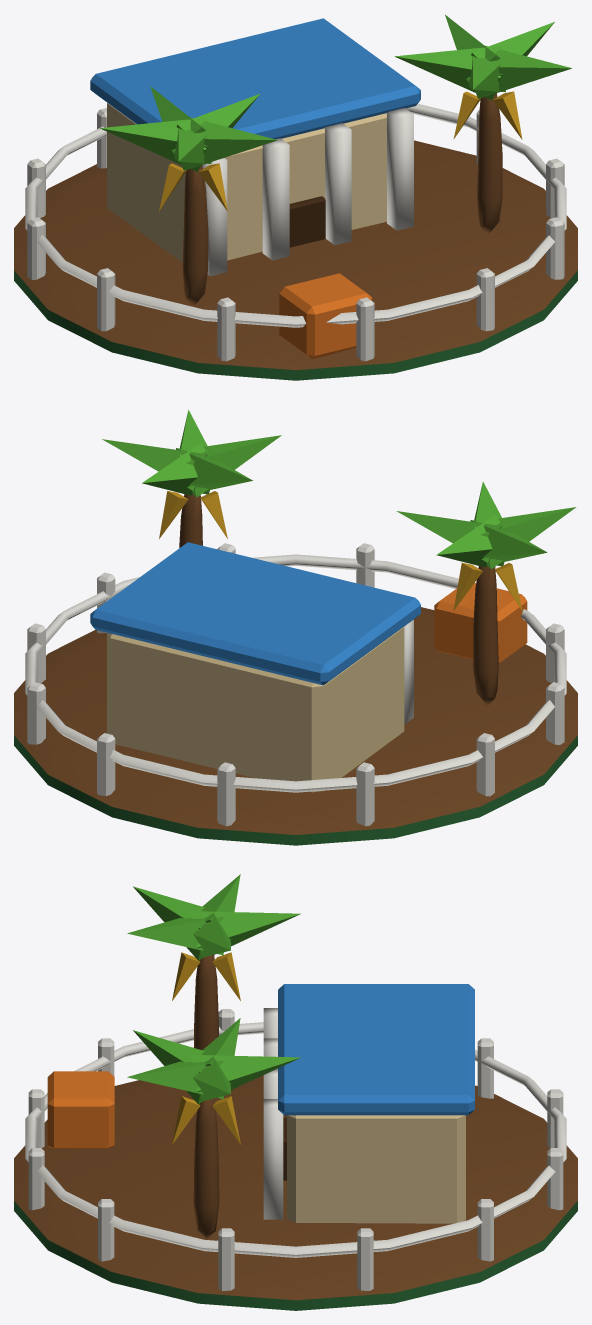
3 renders of one model, top to bottom at view 1: azimuth 30°, elevation 25°; view 2: azimuth 150°, elevation 25°; view 3: azimuth 270°, elevation 25°, orthographic.
Parts seen in each view (by area): view 1: fazenda_0_base, fazenda_1_torreta; view 2: fazenda_0_base, fazenda_1_torreta; view 3: fazenda_0_base, fazenda_1_torreta.
Boxes of the visible parts, x1,y1,x2,y2 form: fazenda_0_base: [14, 18, 577, 380]; fazenda_1_torreta: [100, 14, 571, 306]; fazenda_0_base: [14, 542, 577, 845]; fazenda_1_torreta: [102, 409, 576, 705]; fazenda_0_base: [14, 984, 577, 1310]; fazenda_1_torreta: [127, 874, 300, 1239].
Bounding box in the file's own units: 1.28 × 0.5151 × 1.26.
